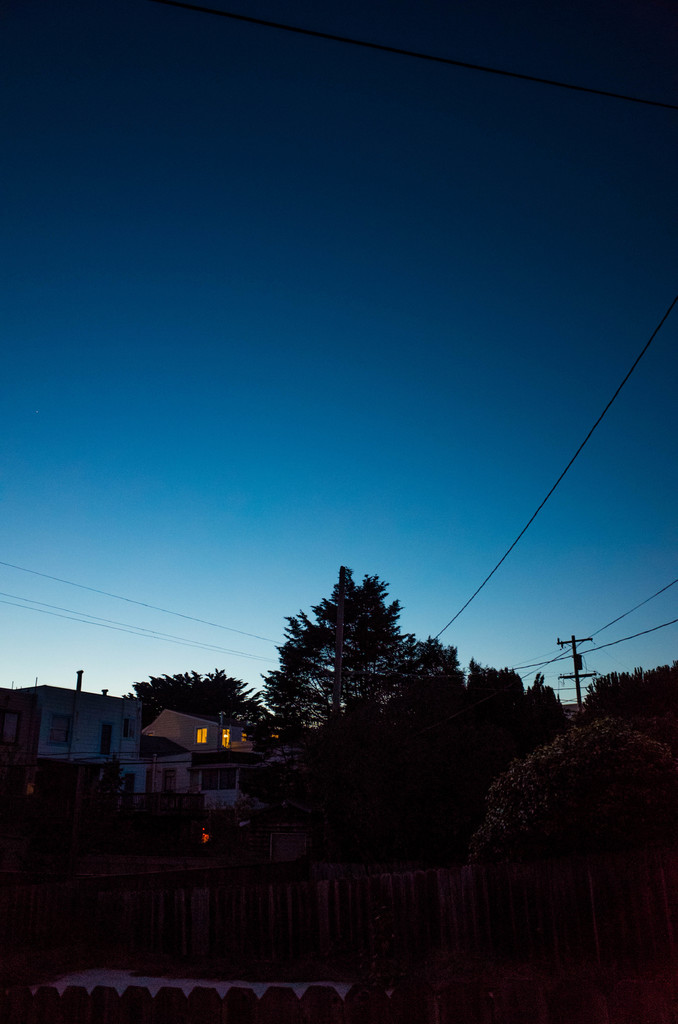Tree: (260, 553, 443, 773), (437, 653, 566, 807), (127, 660, 253, 737)
